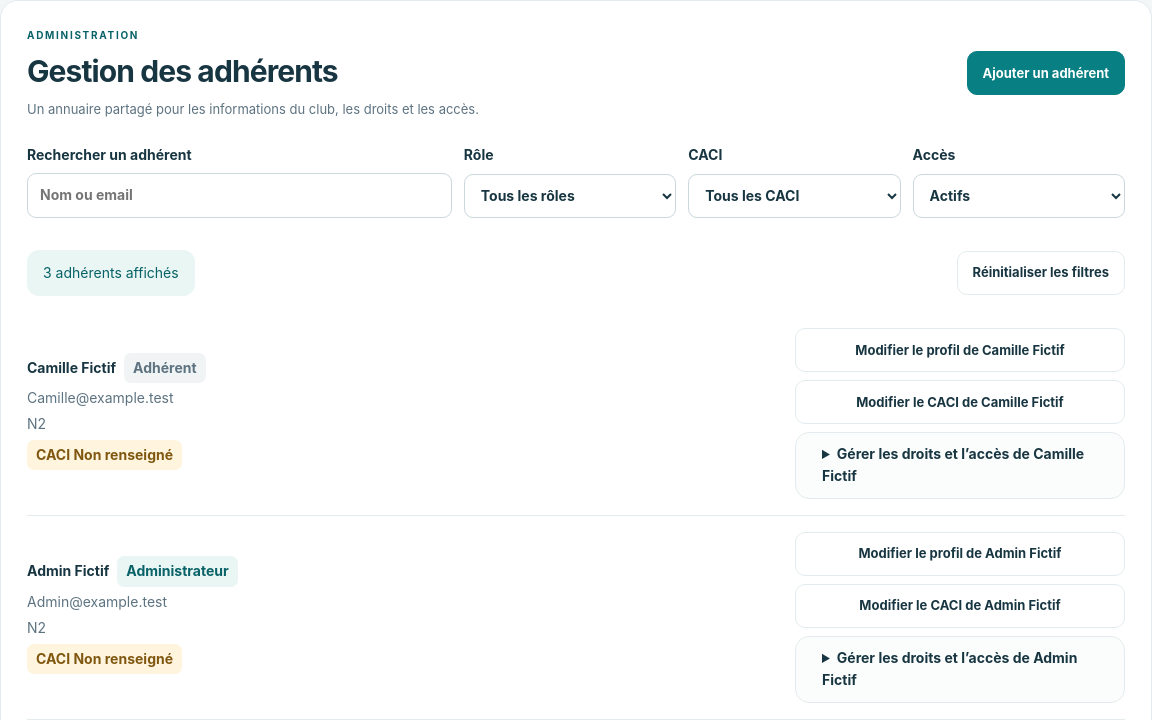
Test case: unified member management › gives President creation and per-row actions, without disabling the President row
Check: the text "Camille Fictif" is shown, box [27,357,116,379]
Check: the number of headings "Gérer les droits et l’accès de Camille Fictif" is 2, box [814,433,1106,498]; [814,637,1106,702]
What coordinates should you click on to do the following:
click the button "Ajouter un adhérent"
I would click on:
 (1046, 73)
Its box is [966,51,1125,95].
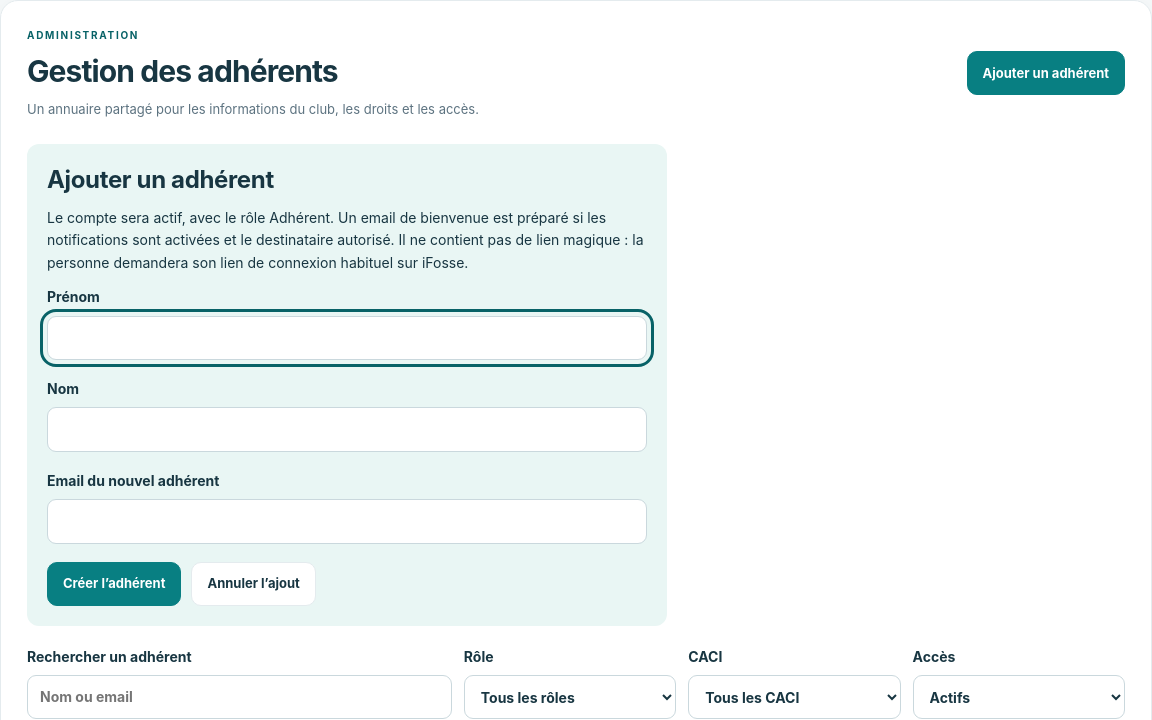
Check: the field labelled "Prénom" is shown, box [47,316,647,360]
